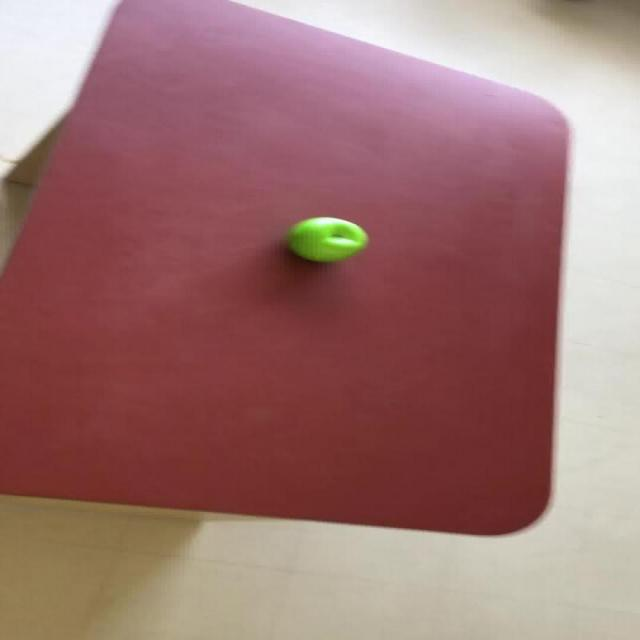Apple: (284, 215, 368, 263)
